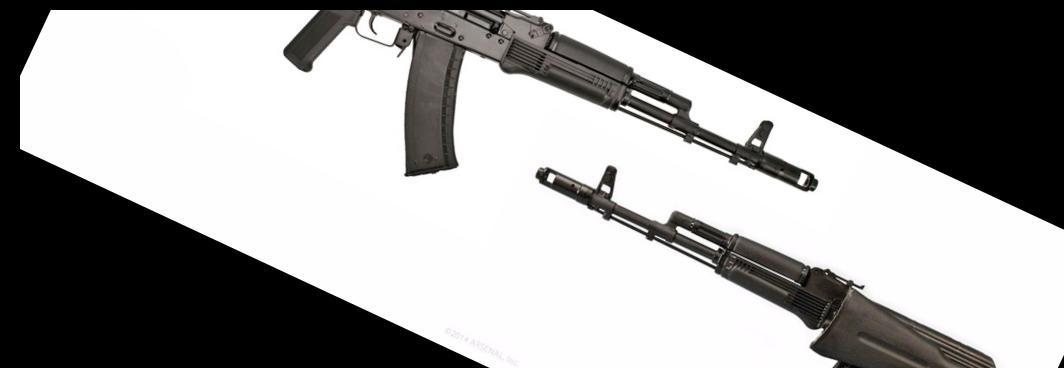larga: (282, 10, 820, 193), (536, 165, 998, 368)
